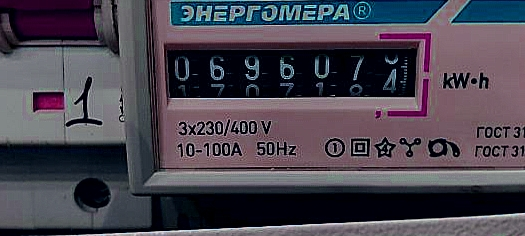0: (171, 52, 191, 82), (312, 49, 331, 80)
4: (379, 66, 398, 94)
6: (205, 51, 227, 81), (277, 51, 296, 79)
7: (347, 51, 364, 81)
9: (242, 52, 260, 81)
screen: (147, 25, 432, 116)
